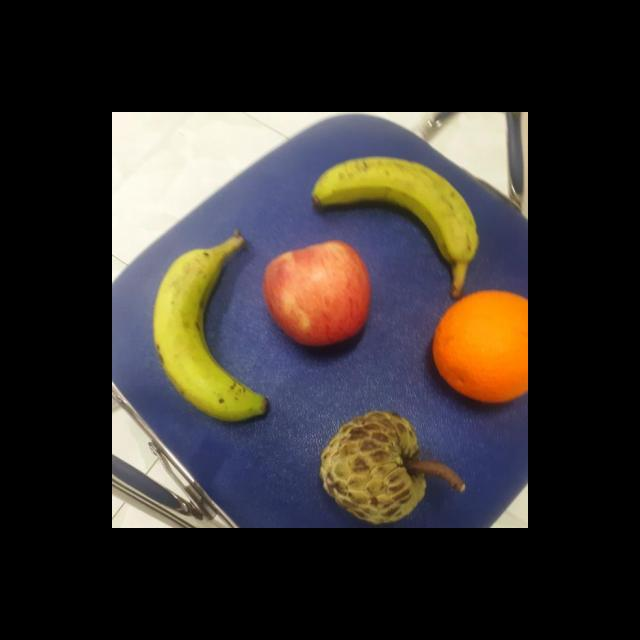Sakya fruit: (317, 411, 426, 528)
apple: (260, 238, 373, 350)
banana: (149, 228, 271, 423), (308, 153, 478, 270)
orange: (430, 288, 528, 407)
